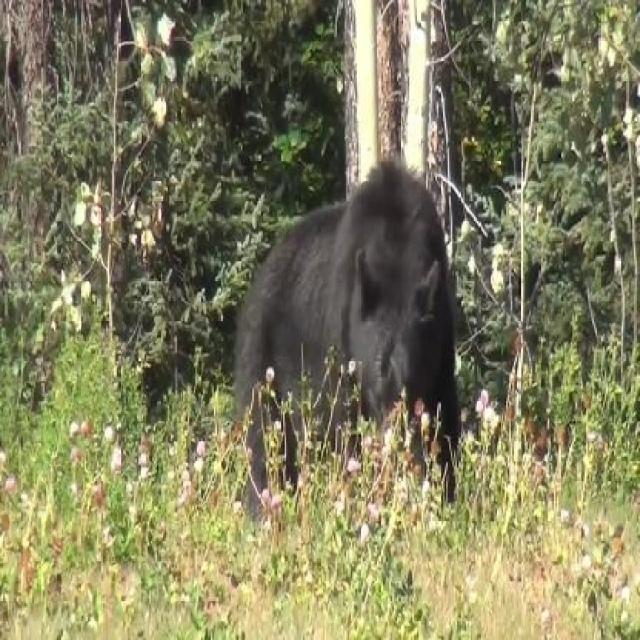Bear: (237, 166, 488, 542)
